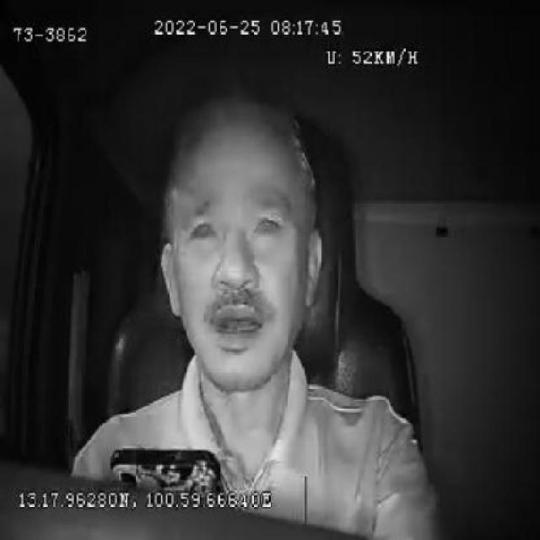phone: (108, 442, 225, 490)
